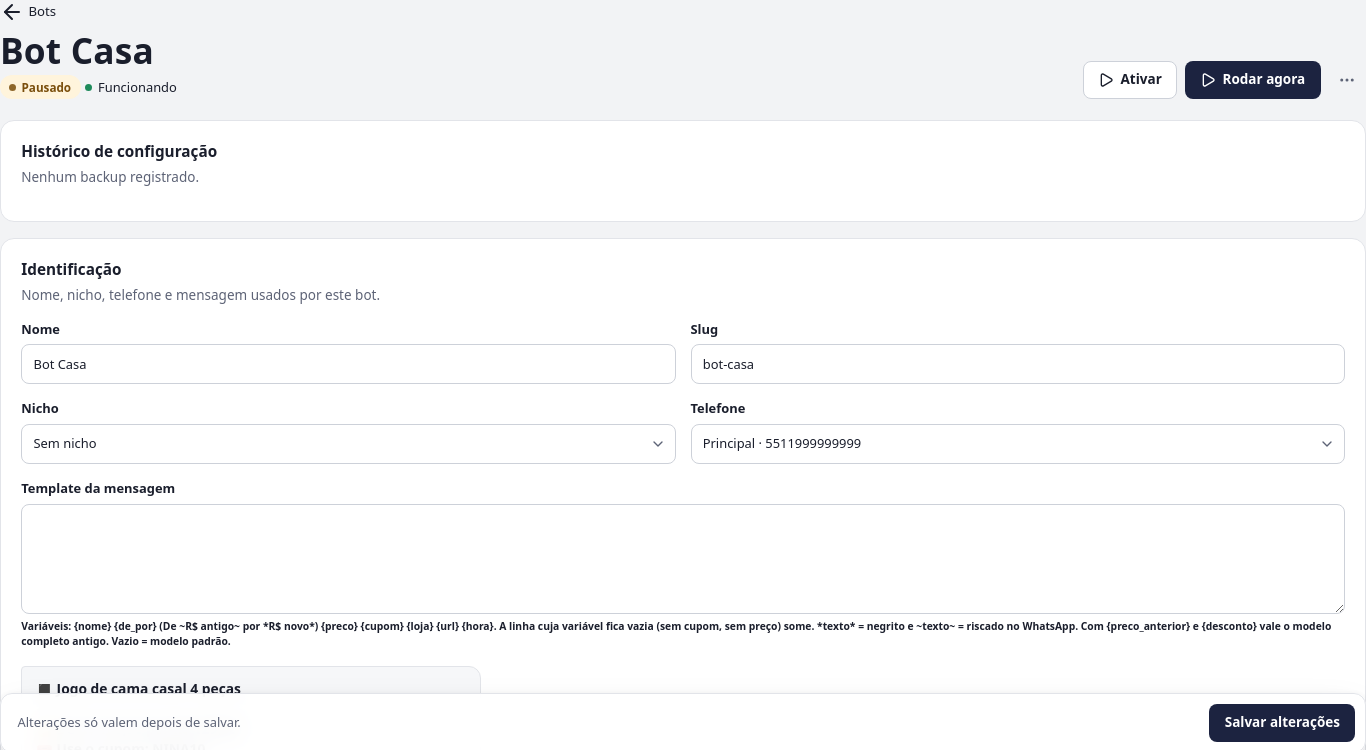
Test: mantém o erro 422 de risco de ban junto ao campo de ritmo
Click the button "Salvar alterações": {"x": 1282, "y": 723} 1210,704 -> 1355,742
(page scrolled)
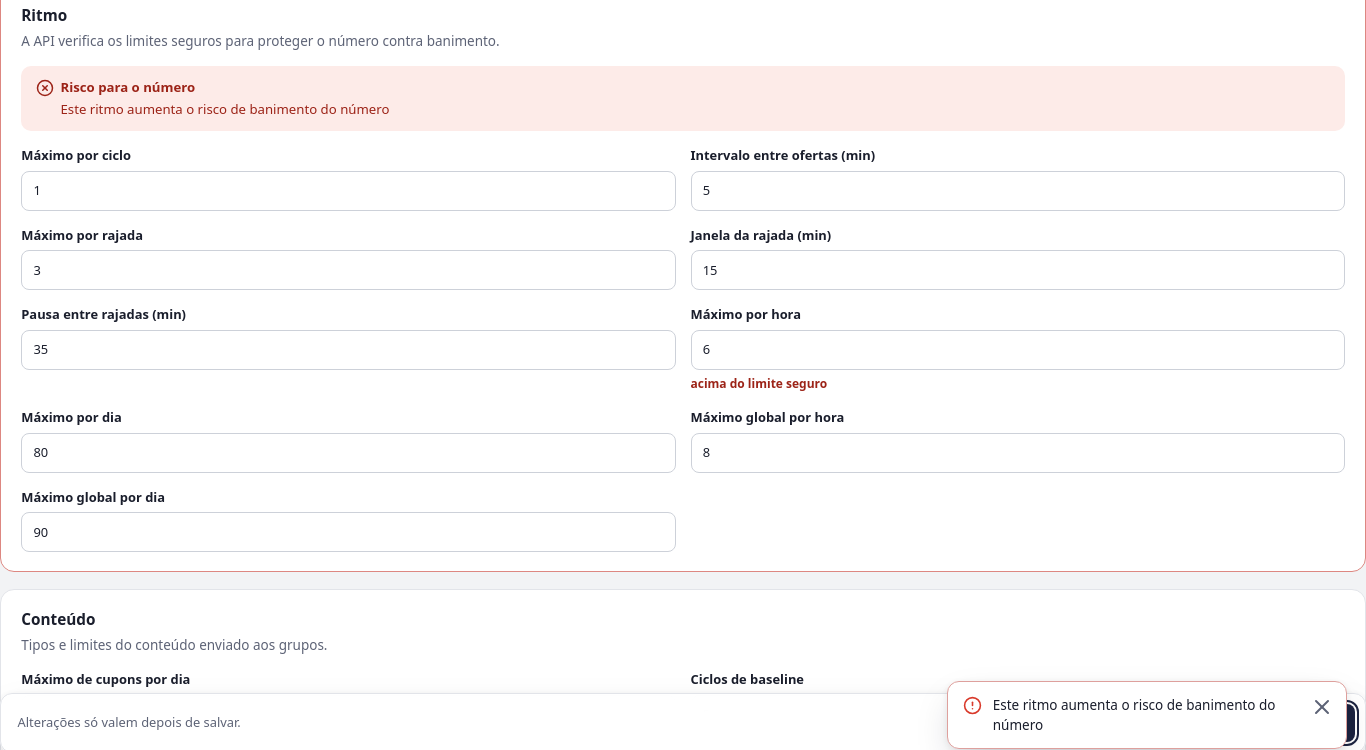
Expected: the message "Risco para o número Este ritmo aumenta o risco de banimento do número" is shown, 21,66 -> 1345,131
Expected: the text "acima do limite seguro" is shown, 690,375 -> 827,392
